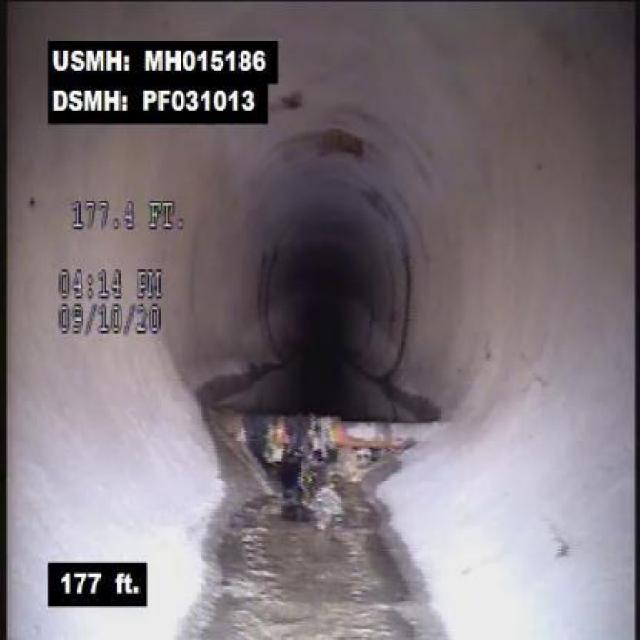Crack: (511, 334, 582, 429)
Utility intrusion: (186, 385, 462, 466)
